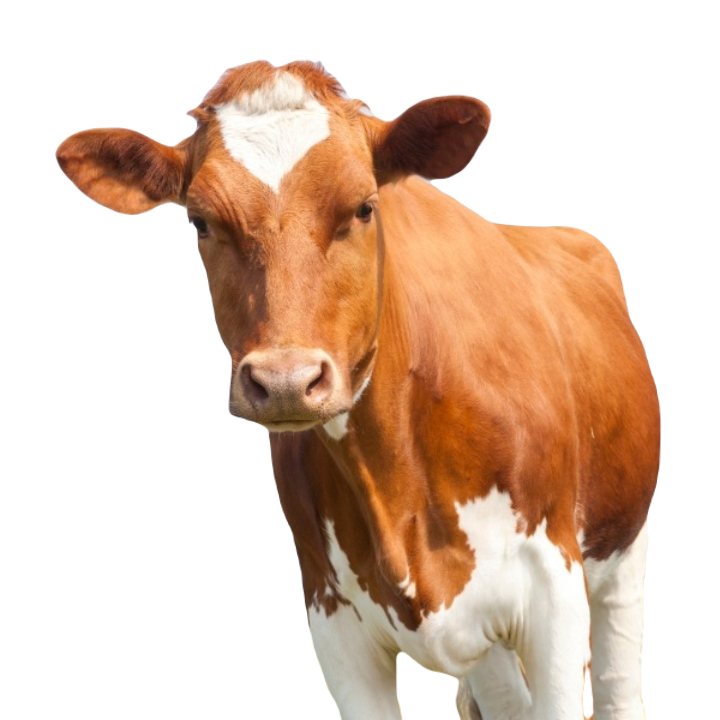Cow: (54, 56, 661, 719)
